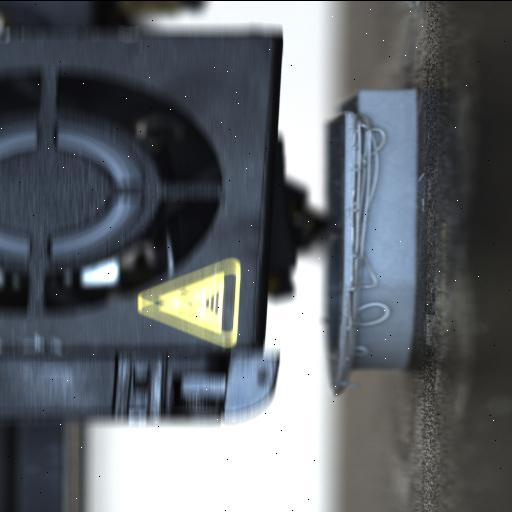layer_shift: (337, 89, 365, 393)
